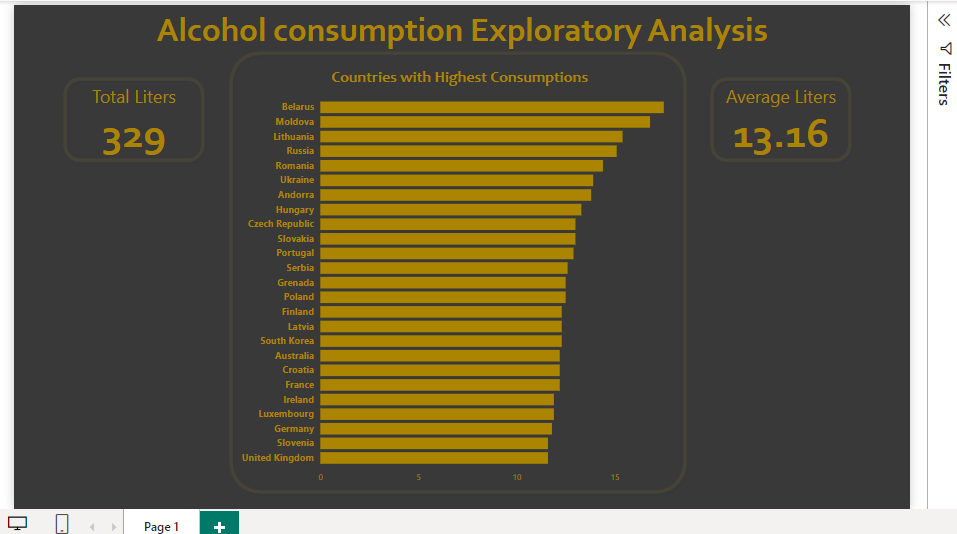

The dashboard page shown, as its layout file describes it:
{"tool":"powerbi","page":{"name":"Page 1","canvas":[1280,720],"ordinal":0},"visuals":[{"type":"textbox","box":[0,0,1279.8,80.8],"z":0},{"type":"shape","box":[298.6,57.1,671.4,650],"z":0},{"type":"shape","box":[60.9,95,219.7,138.9],"z":0,"group":"g1"},{"type":"shape","box":[985,95,219.7,138.9],"z":0,"group":"g2"},{"type":"group","id":"g1","title":"Group 1","box":[60.9,95,219.7,138.9],"z":1000},{"type":"group","id":"g2","title":"Group 1","box":[985,95,219.7,138.9],"z":2000},{"type":"cardVisual","fields":{"Data":["Sheet1.Total Liters"]},"box":[72.2,96.4,197,137.5],"z":2000,"group":"g1"},{"type":"cardVisual","fields":{"Data":["Sheet1.Average Liters"]},"box":[996.3,96.4,197,137.5],"z":2000,"group":"g2"},{"type":"barChart","title":"Countries with Highest Consumptions","fields":{"Category":["Sheet1.Country"],"Y":["Sum(Sheet1.Liters of pure alcohol consumed per capita)"]},"box":[318.6,88.6,635.7,604.3],"z":3000}]}

Visuals, with their boxes on the page's 1280x720 design canvas (x1, y1, x2, y2). These are canvas units, not pixel positions in the 957x534 screenshot, which may show the page scaled, cropped or inside an application window:
textbox: <region>0, 0, 1280, 81</region>
shape: <region>299, 57, 970, 707</region>
shape: <region>61, 95, 281, 234</region>
shape: <region>985, 95, 1205, 234</region>
"Group 1" group: <region>61, 95, 281, 234</region>
"Group 1" group: <region>985, 95, 1205, 234</region>
cardVisual - Sheet1.Total Liters: <region>72, 96, 269, 234</region>
cardVisual - Sheet1.Average Liters: <region>996, 96, 1193, 234</region>
"Countries with Highest Consumptions" barChart: <region>319, 89, 954, 693</region>
